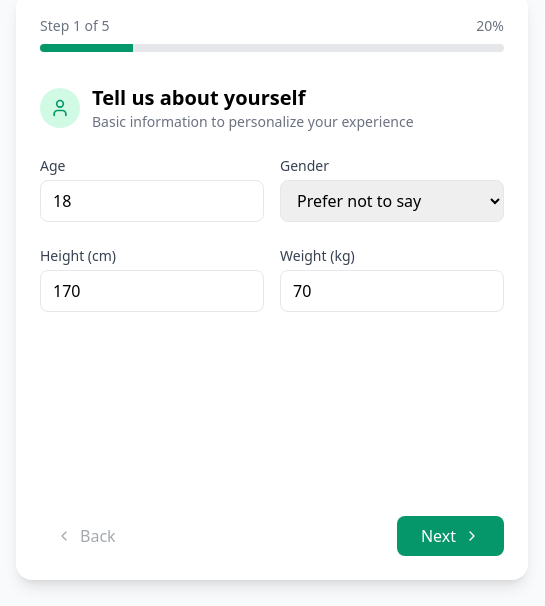
Test: Onboarding Component › should update progress bar correctly
Expected: the text "20%" is shown, [476,16,504,36]
Step 2: 40%
Click the button "Next". click: x=450, y=536
box: [397,516,504,556]
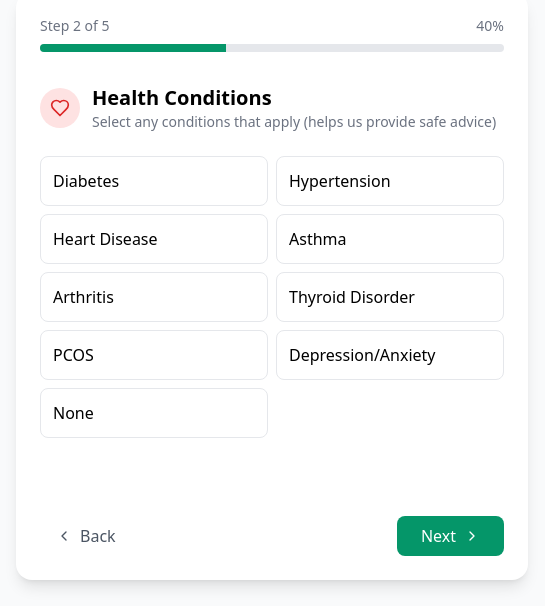
Expected: the text "40%" is shown, [476,16,504,36]
Step 3: 60%
Click the button "Next". click: x=450, y=536
box: [397,516,504,556]
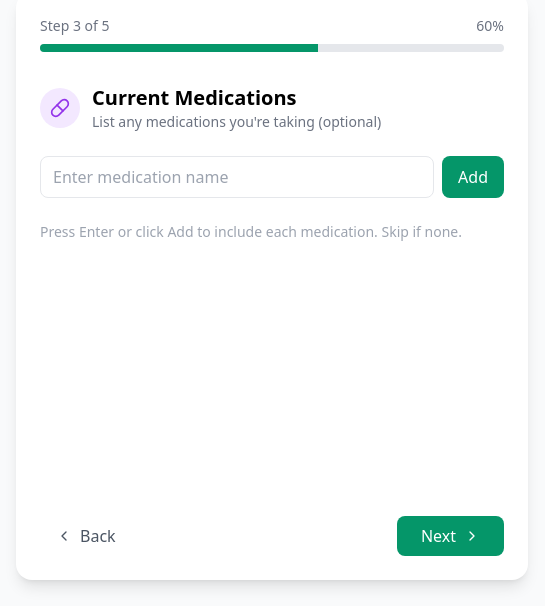
Expected: the text "60%" is shown, [476,16,504,36]
